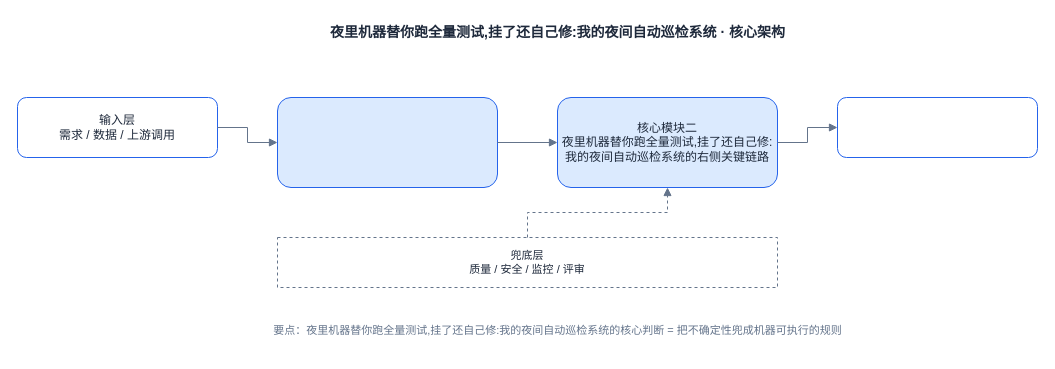
This 1055x369 diagram has some shape labels left out. Each missing label, with the centre of its shape:
"核心模块一 夜里机器替你跑全量测试,挂了还自己修:我的夜间自动巡检系统的左侧关键链路" goes at point 387,142.
"输出 / 结果 产物 / 上线 / 反馈" goes at point 937,127.
